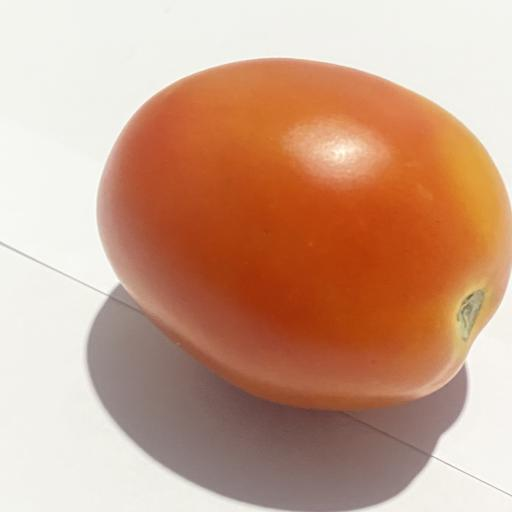ripe: (97, 58, 512, 410)
